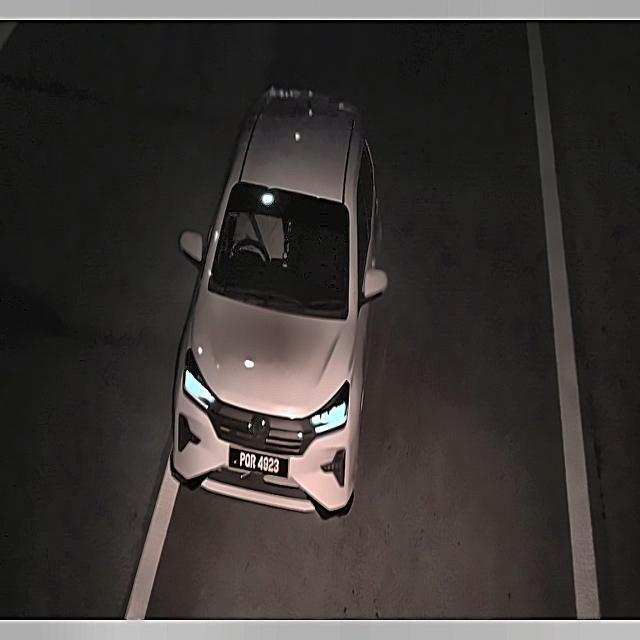car: (223, 438, 292, 487)
